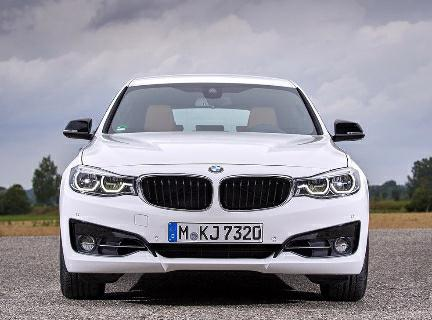宝马-4系: (54, 71, 378, 310)
